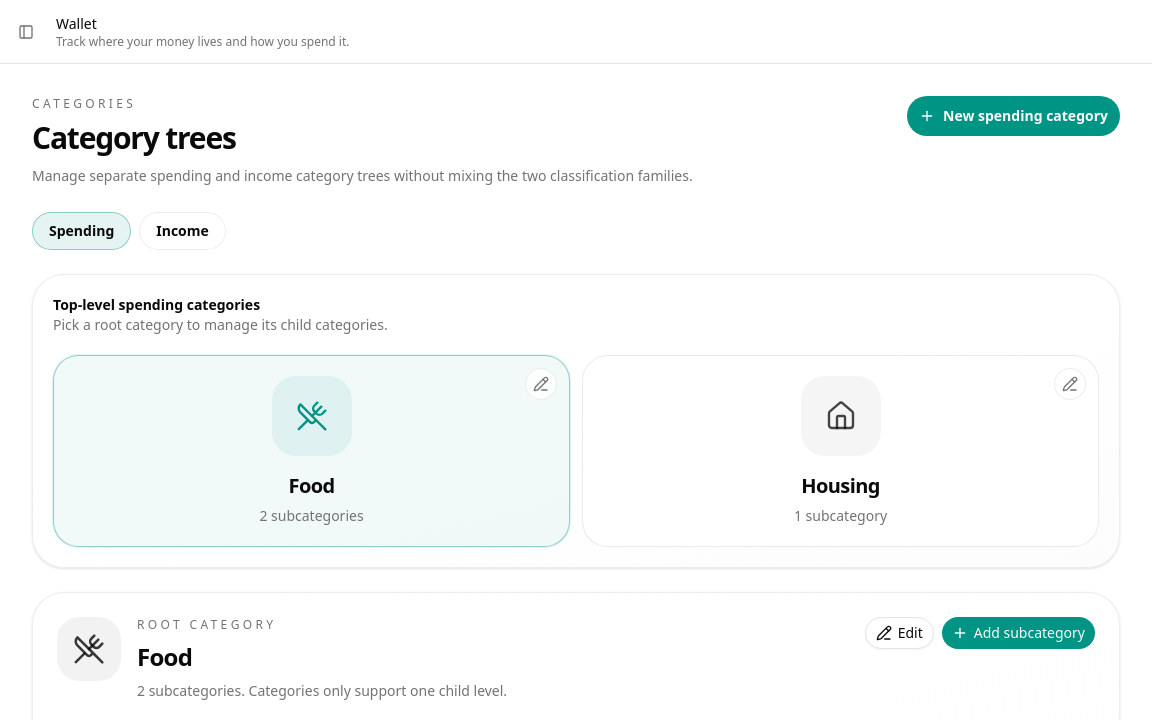
Test: categories route › creates an income subcategory after switching tabs
Expected: the heading "Food" below "Top-level" is shown, left=288, top=472, right=334, bottom=499
Step 1. Click the button "Income" → point(183, 231), box left=139, top=212, right=226, bottom=250
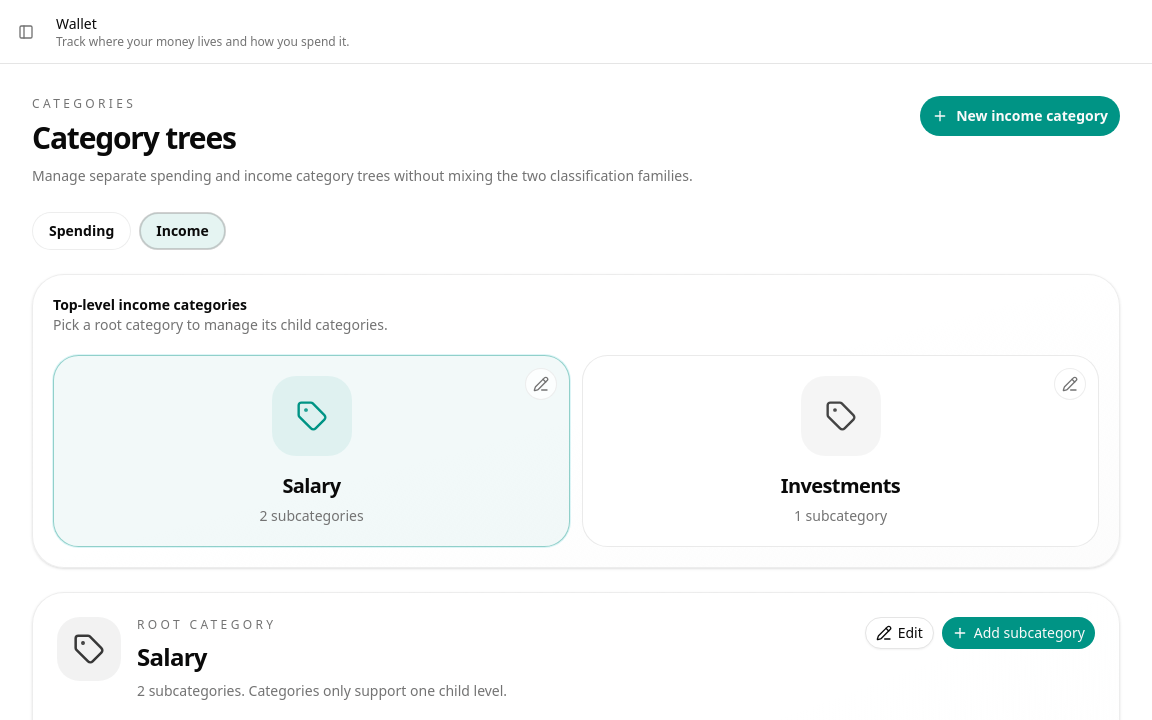
Step 2. Click the button with aria-label "Add subcategory to Salary" → point(1018, 633), box left=942, top=617, right=1095, bottom=649
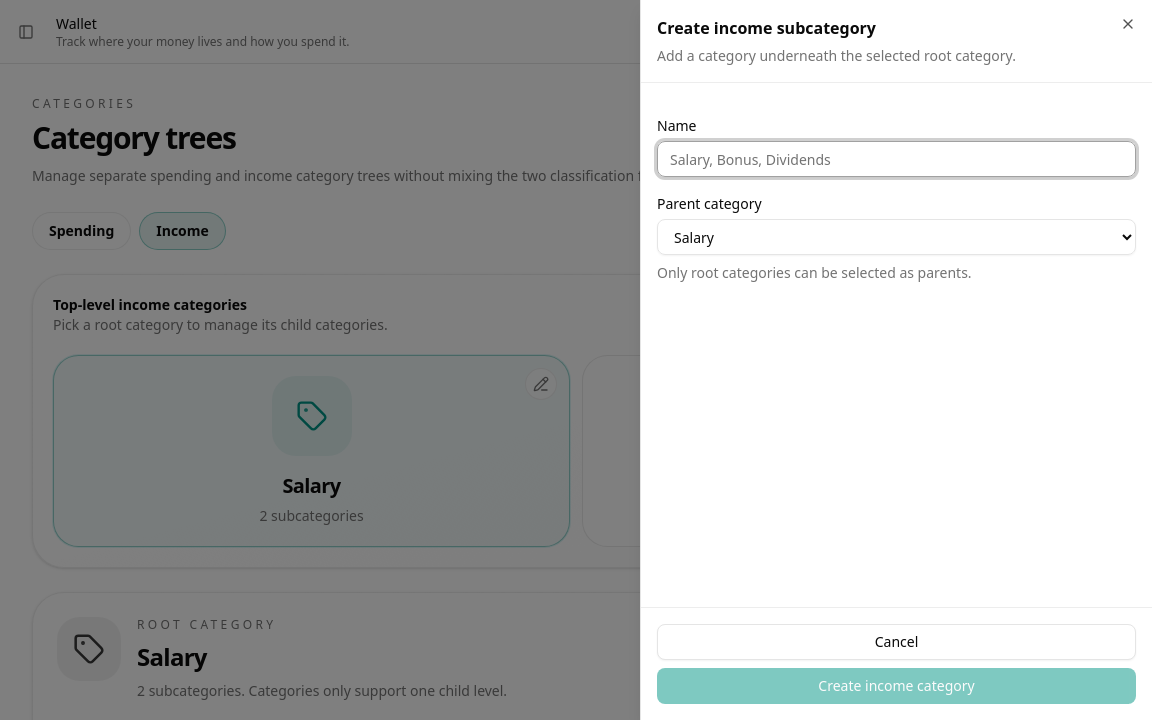
Step 3. Type "Freelance" into the field labelled "Name" → point(896, 159), box left=657, top=141, right=1136, bottom=177
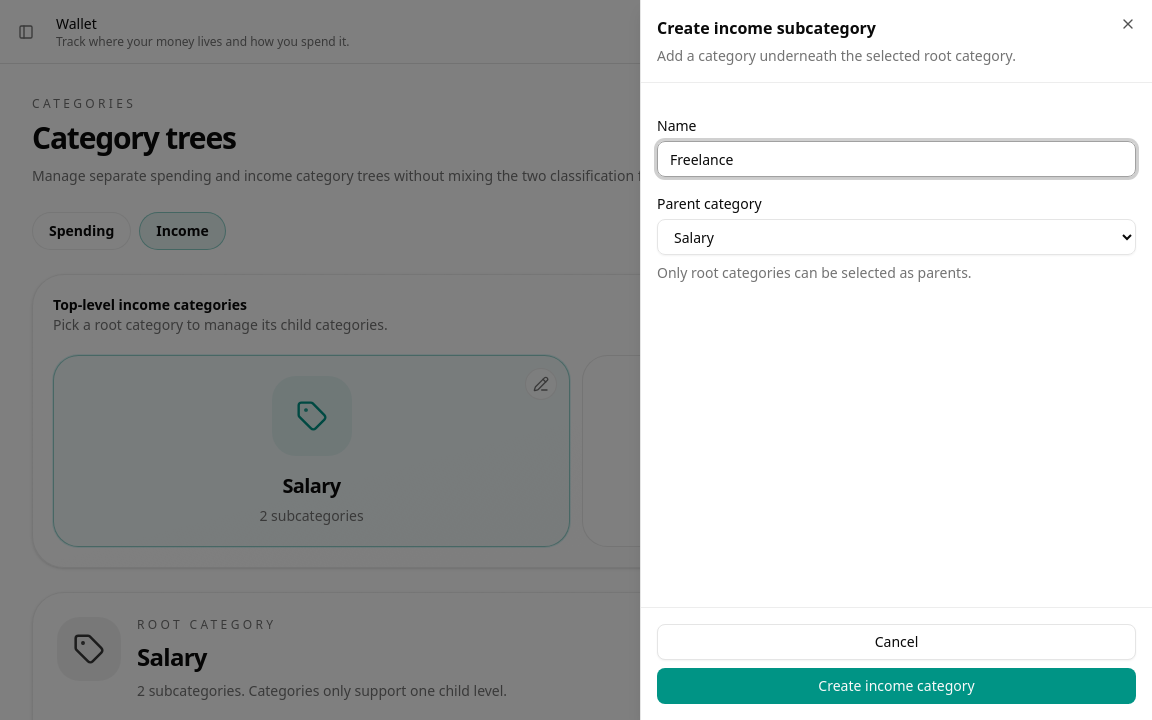
Step 4. Click the button "Create income category" → point(896, 686), box left=657, top=668, right=1136, bottom=704
(page scrolled)
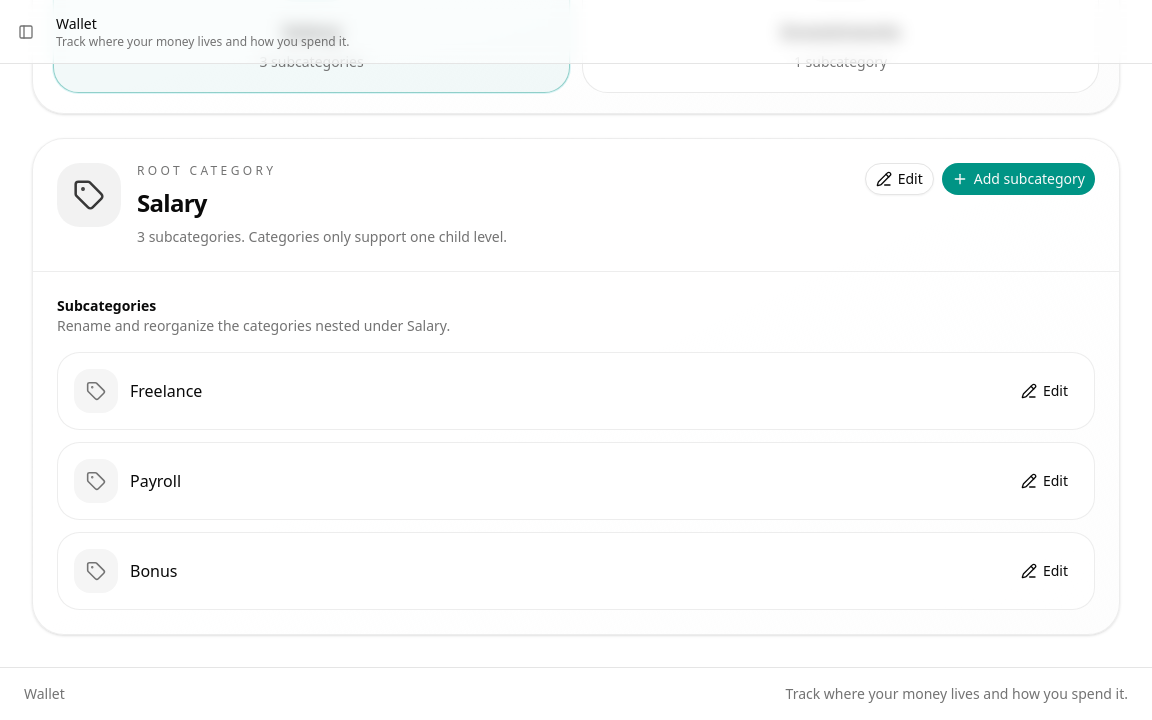
Expected: the text "Freelance" is shown, left=130, top=379, right=202, bottom=403
